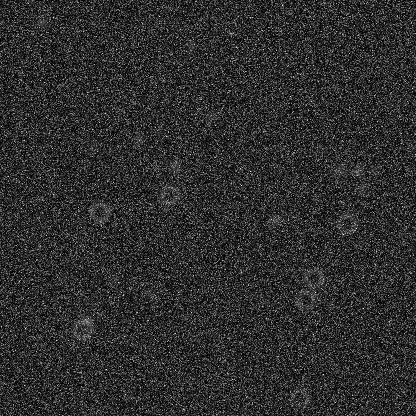Ring: (293, 287, 317, 311), (287, 385, 311, 409), (87, 200, 111, 224), (301, 266, 325, 290), (335, 211, 359, 235), (70, 317, 94, 341), (157, 182, 181, 206)
Spot: (84, 137, 100, 153), (312, 141, 328, 157), (223, 116, 239, 132), (130, 131, 146, 147), (13, 350, 29, 366), (330, 163, 346, 179), (79, 311, 95, 327), (267, 212, 283, 228), (182, 36, 198, 52), (104, 271, 120, 287), (202, 107, 218, 123), (150, 123, 166, 139), (141, 284, 157, 300), (365, 161, 381, 177), (33, 14, 49, 30), (166, 158, 182, 174), (349, 162, 365, 178), (354, 180, 370, 196), (9, 104, 25, 120)
